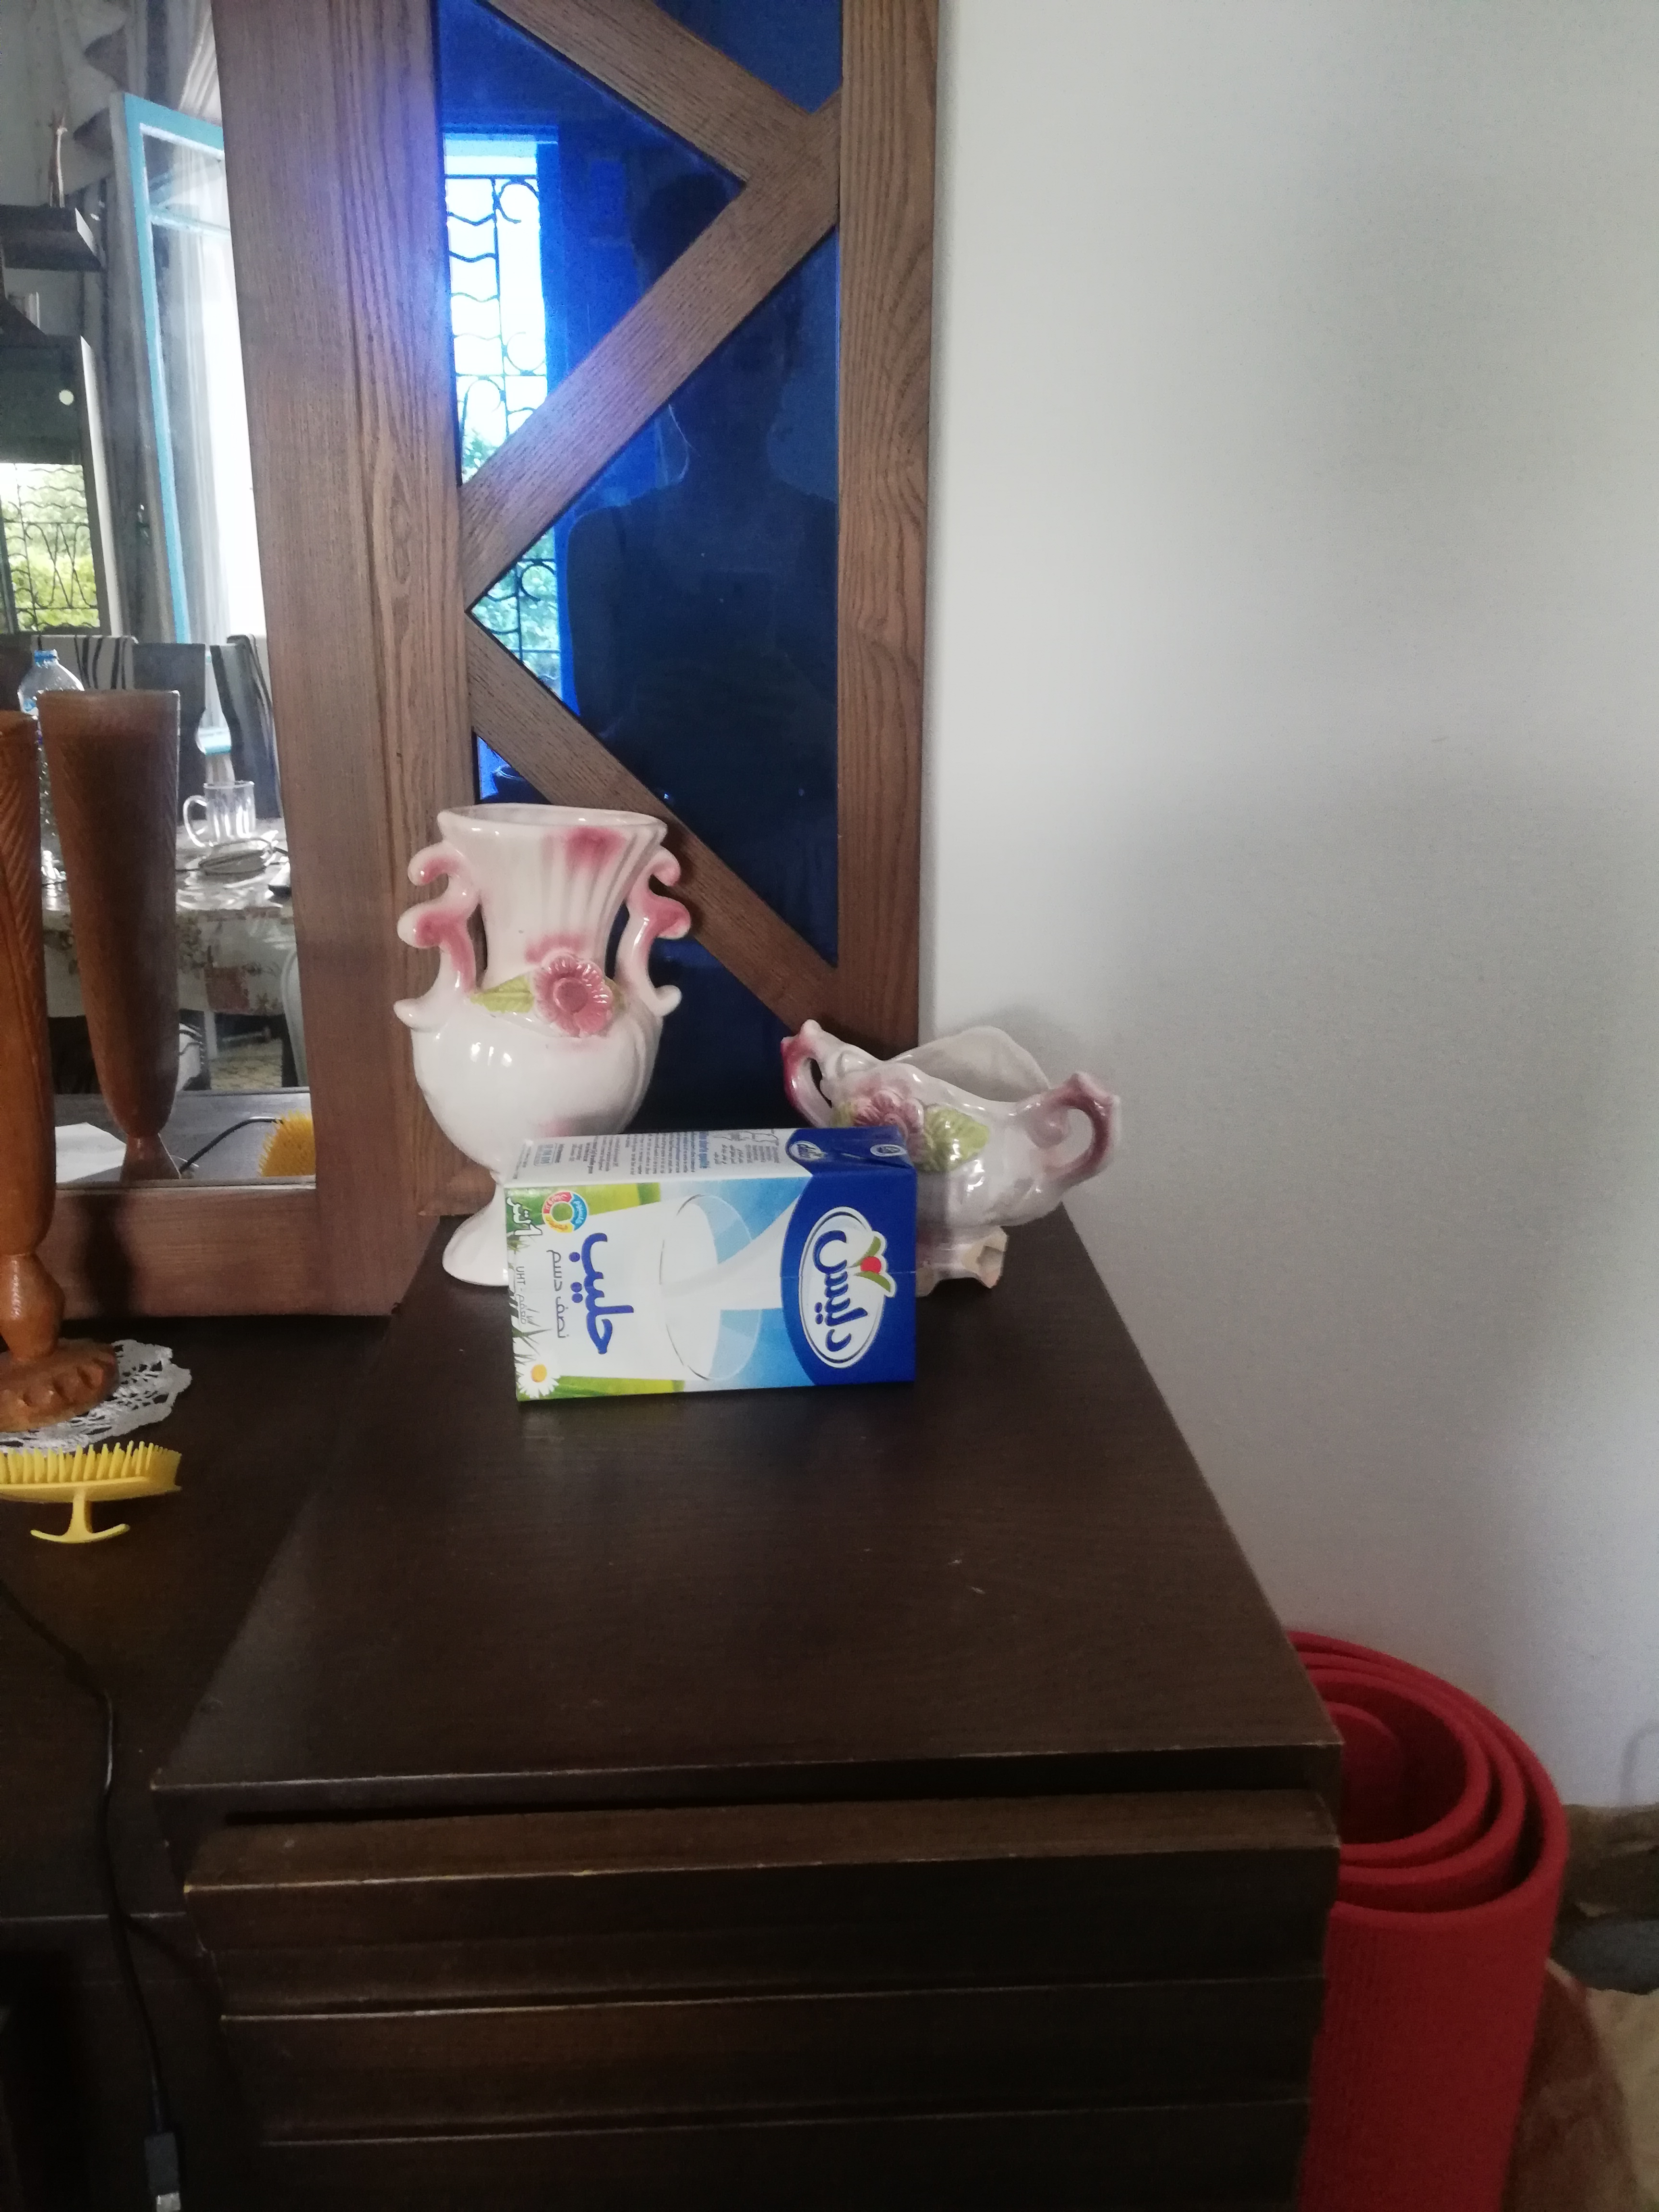Lait delice: (497, 1127, 918, 1411)
